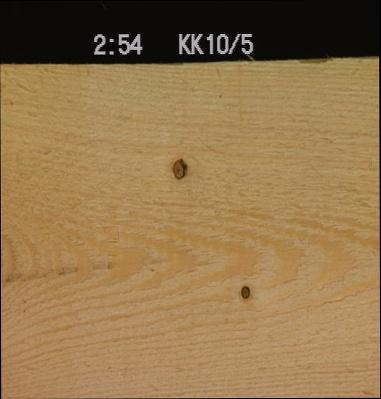dry_knot: (170, 156, 188, 180), (239, 283, 250, 300)
